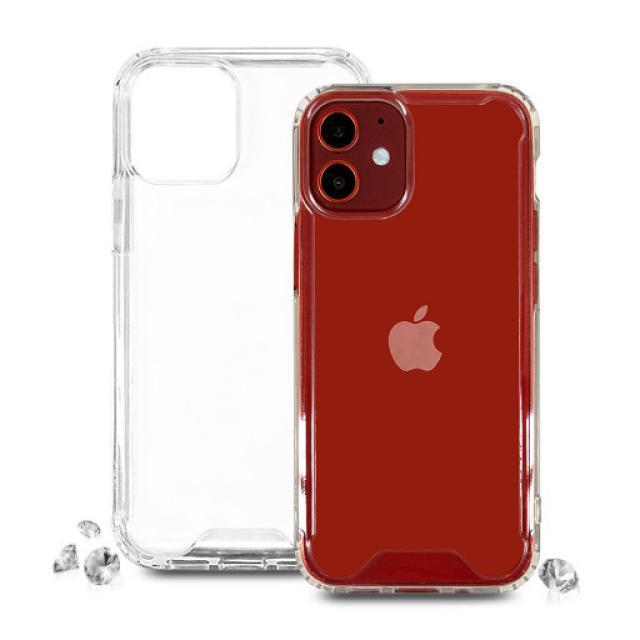phone: (293, 84, 542, 595)
